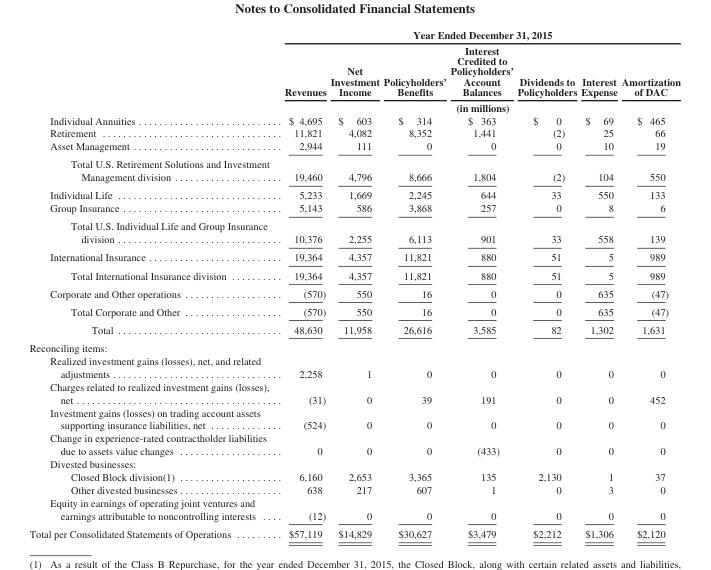table: (28, 28, 679, 539)
table column: (28, 28, 276, 539), (380, 28, 447, 539), (447, 28, 514, 539), (514, 28, 578, 539), (618, 28, 679, 539), (327, 28, 380, 539), (276, 28, 327, 539), (578, 28, 618, 539)
table column header: (28, 28, 679, 113)
table projected row header: (28, 338, 679, 353), (28, 457, 679, 470)
table row: (28, 42, 679, 99), (28, 154, 679, 185), (28, 216, 679, 247), (28, 495, 679, 524), (28, 353, 679, 379), (28, 379, 679, 405), (28, 405, 679, 431), (28, 431, 679, 457), (28, 247, 679, 266), (28, 266, 679, 284), (28, 284, 679, 302), (28, 302, 679, 320), (28, 320, 679, 338), (28, 185, 679, 201), (28, 139, 679, 154), (28, 201, 679, 216), (28, 338, 679, 353), (28, 524, 679, 539), (28, 28, 679, 42), (28, 99, 679, 113), (28, 113, 679, 126), (28, 126, 679, 139), (28, 457, 679, 470), (28, 470, 679, 483), (28, 483, 679, 495)
table spanning cell: (276, 28, 679, 42), (276, 99, 679, 113)
